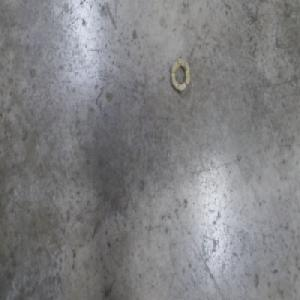Nut: (170, 53, 191, 94)
